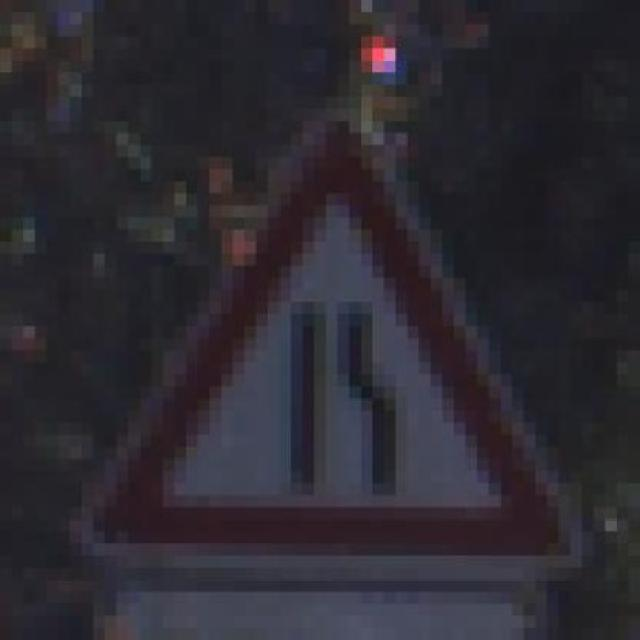-Road narrows on right: (93, 97, 582, 580)
